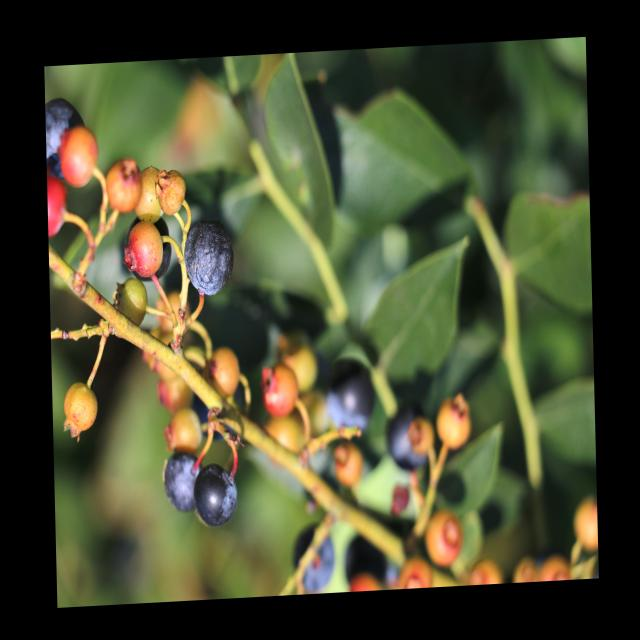blueberry: (183, 217, 235, 297), (125, 209, 173, 285), (45, 98, 86, 183), (329, 364, 376, 436), (385, 402, 431, 474), (193, 461, 238, 529), (290, 522, 336, 588), (161, 445, 204, 513)
blueberry-halfripe: (419, 506, 465, 570), (60, 120, 97, 191), (205, 344, 242, 402), (259, 365, 298, 420), (167, 404, 206, 457), (61, 383, 98, 436), (126, 222, 162, 274), (106, 162, 138, 212), (47, 178, 69, 236), (334, 448, 364, 486)
blueberry-unripe: (432, 395, 471, 449), (115, 275, 148, 329)
